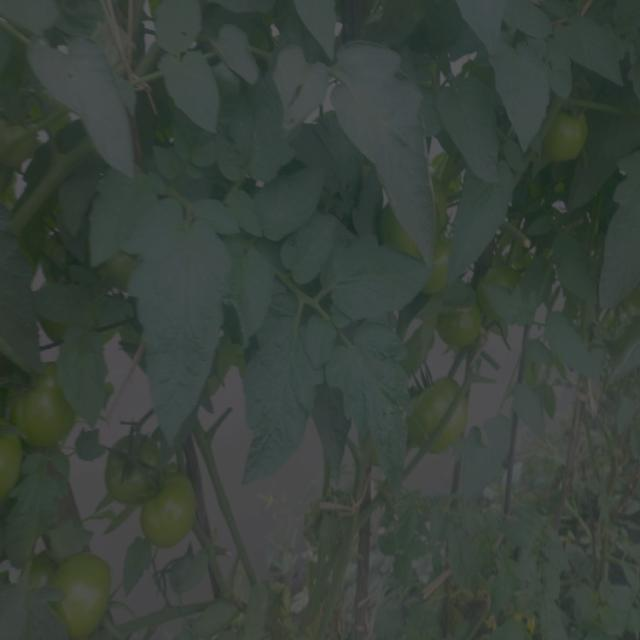tomato: (13, 359, 83, 451), (407, 377, 475, 456), (55, 541, 113, 633), (141, 476, 208, 553), (102, 422, 159, 506), (544, 109, 595, 171), (440, 301, 492, 358), (1, 411, 25, 507)
